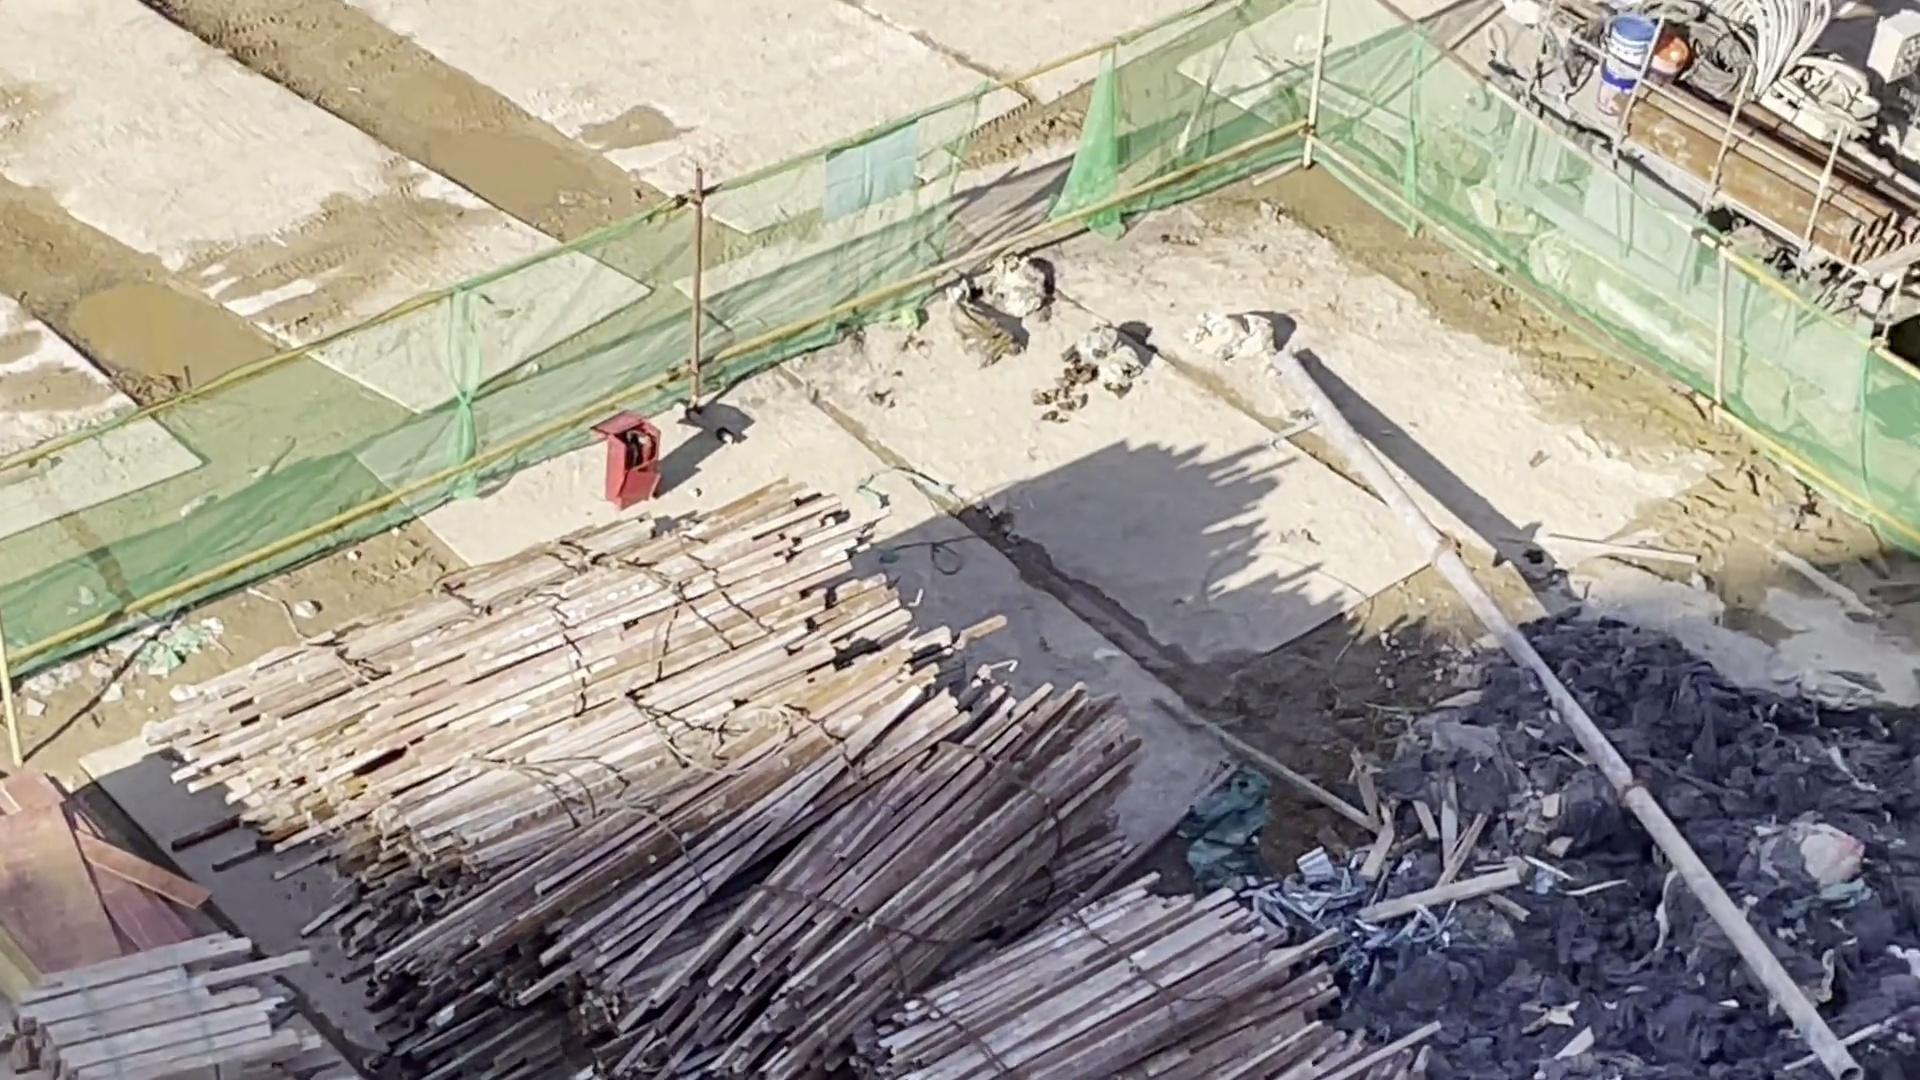board: (1, 773, 144, 968)
wood: (247, 477, 895, 849), (636, 723, 1135, 1080), (400, 683, 914, 1010), (169, 516, 654, 782), (860, 895, 1274, 1077), (402, 665, 849, 793), (9, 967, 301, 1080)
